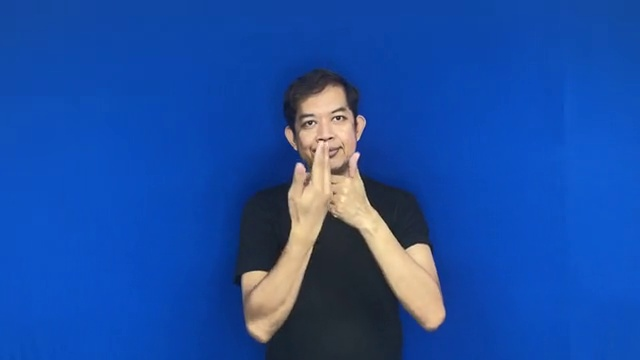bread: (281, 135, 382, 237)
